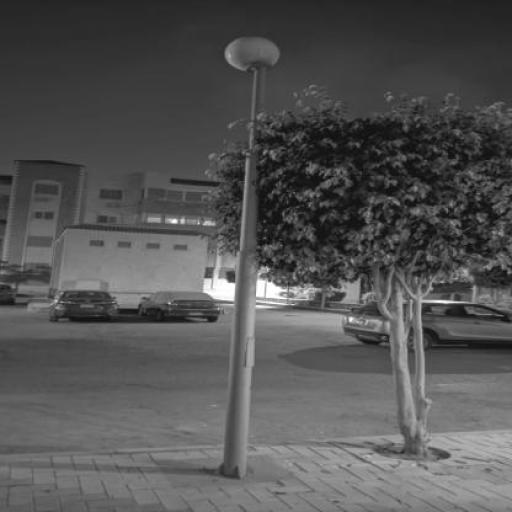street light: (207, 36, 283, 475)
